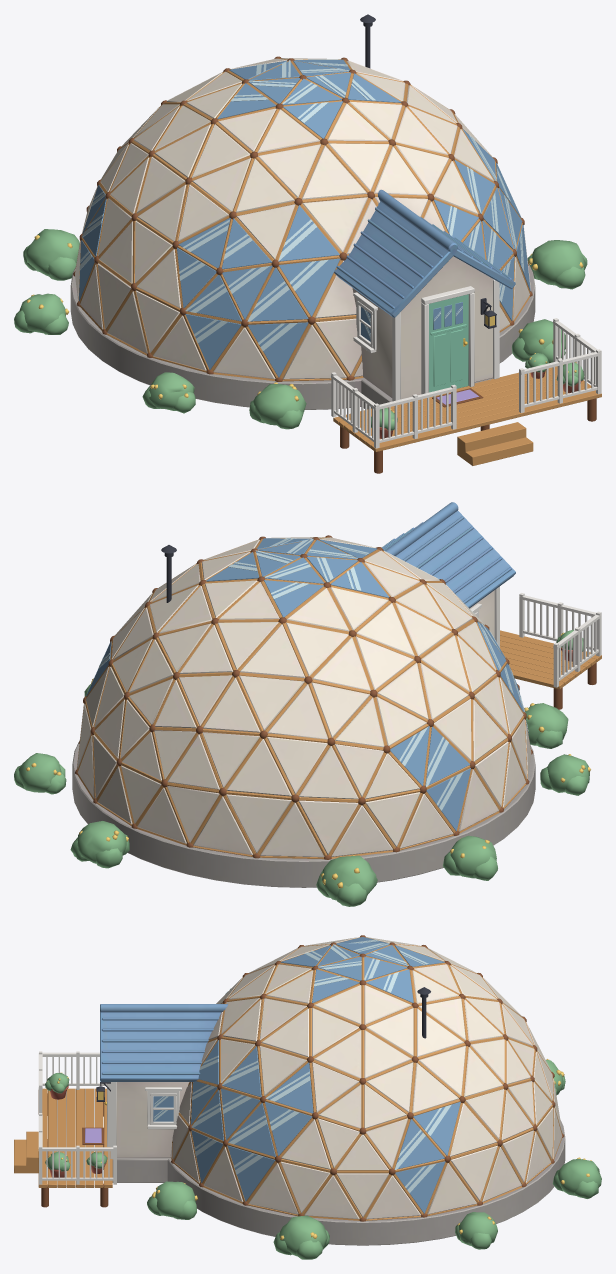
Rendered from dome-house.glb.
3 renders of one model, top to bottom at view 1: azimuth 30°, elevation 25°; view 2: azimuth 150°, elevation 25°; view 3: azimuth 270°, elevation 25°, orthographic. The views are drawn at different scales.
Visible parts, largest first — view 1: dome-house_body, dome-house_details, dome-house_details_struts, dome-house_plants, dome-house_details_rails, dome-house_glints, dome-house_door_l, dome-house_frame; view 2: dome-house_body, dome-house_details_struts, dome-house_details, dome-house_plants, dome-house_details_rails, dome-house_glints; view 3: dome-house_body, dome-house_details, dome-house_details_struts, dome-house_plants, dome-house_glints, dome-house_details_rails.
Boxes of the visible parts, <box> form: dome-house_body: <box>70,58,535,409</box>; dome-house_details: <box>79,59,601,473</box>; dome-house_details_struts: <box>73,14,532,381</box>; dome-house_plants: <box>14,229,587,430</box>; dome-house_details_rails: <box>331,318,601,448</box>; dome-house_glints: <box>79,60,524,350</box>; dome-house_door_l: <box>429,294,468,392</box>; dome-house_frame: <box>421,286,474,394</box>; dome-house_body: <box>72,502,535,887</box>; dome-house_details_struts: <box>75,535,532,859</box>; dome-house_details: <box>86,538,601,831</box>; dome-house_plants: <box>14,630,590,906</box>; dome-house_details_rails: <box>519,593,601,687</box>; dome-house_glints: <box>98,538,528,810</box>; dome-house_body: <box>100,937,565,1245</box>; dome-house_details: <box>14,937,460,1213</box>; dome-house_details_struts: <box>171,935,564,1221</box>; dome-house_plants: <box>45,1059,601,1259</box>; dome-house_glints: <box>154,939,451,1193</box>; dome-house_details_rails: <box>38,1051,116,1184</box>.
Size of the model in its own units: 11.25 by 5.44 by 13.42.
Materials: 18 (1 with a texture image).
